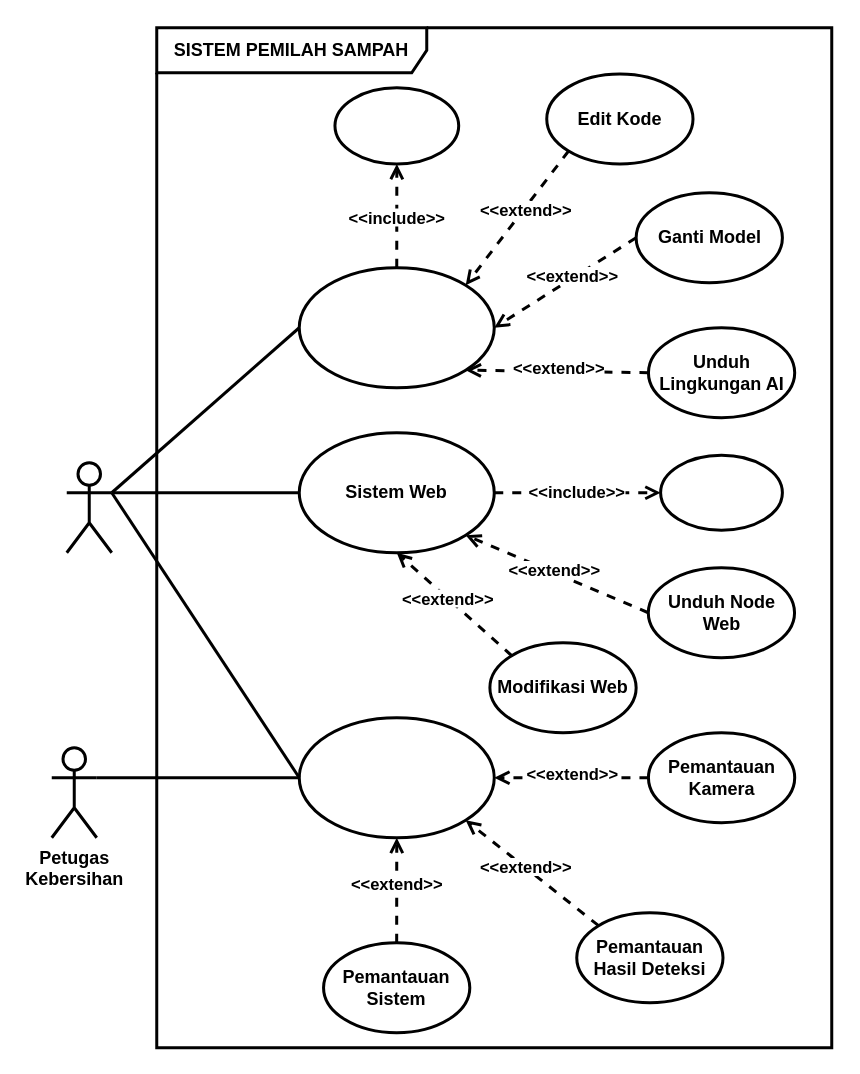
Some shapes in this 860 by 1074 pixel diagram are drawn without their labels. Here are the shapes that lost their labels. From the top down, the centre of each, then its label:
At point 396,125: "Login SSH".
At point 396,327: "Akses Sistem".
At point 88,507: "Admin".
At point 720,492: "Login NodeRED".
At point 396,777: "Dasbor Web".
